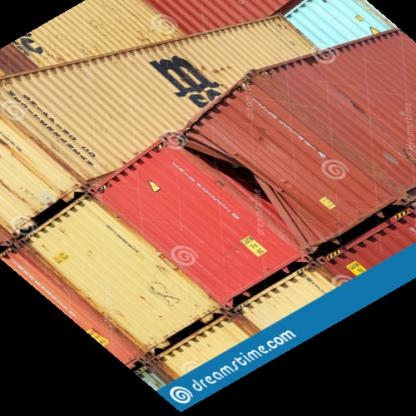Damage: (180, 134, 271, 202)
